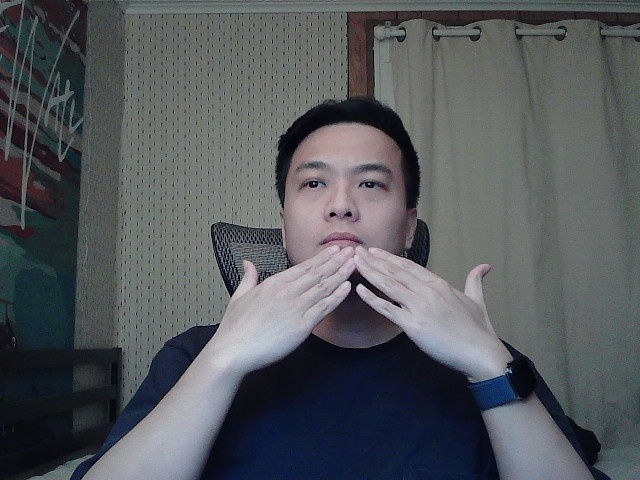Thank You: (202, 237, 528, 376)
